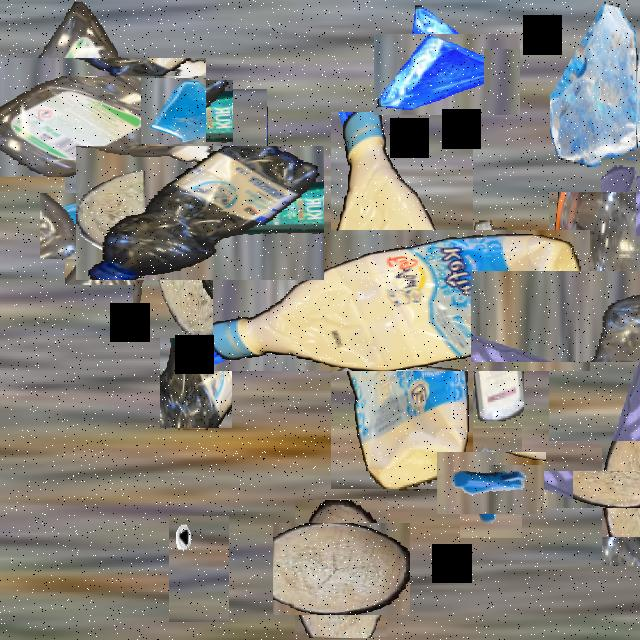glass: (550, 2, 640, 165), (390, 18, 504, 132), (52, 180, 144, 272), (601, 158, 640, 308)
metal: (448, 441, 534, 526), (169, 516, 229, 622)
plastic: (272, 171, 532, 430), (104, 118, 296, 309), (3, 30, 179, 205), (509, 231, 640, 401), (160, 176, 232, 428), (428, 255, 558, 385), (636, 2, 640, 236)
wood: (284, 511, 398, 627), (573, 441, 640, 536), (162, 85, 238, 160)
